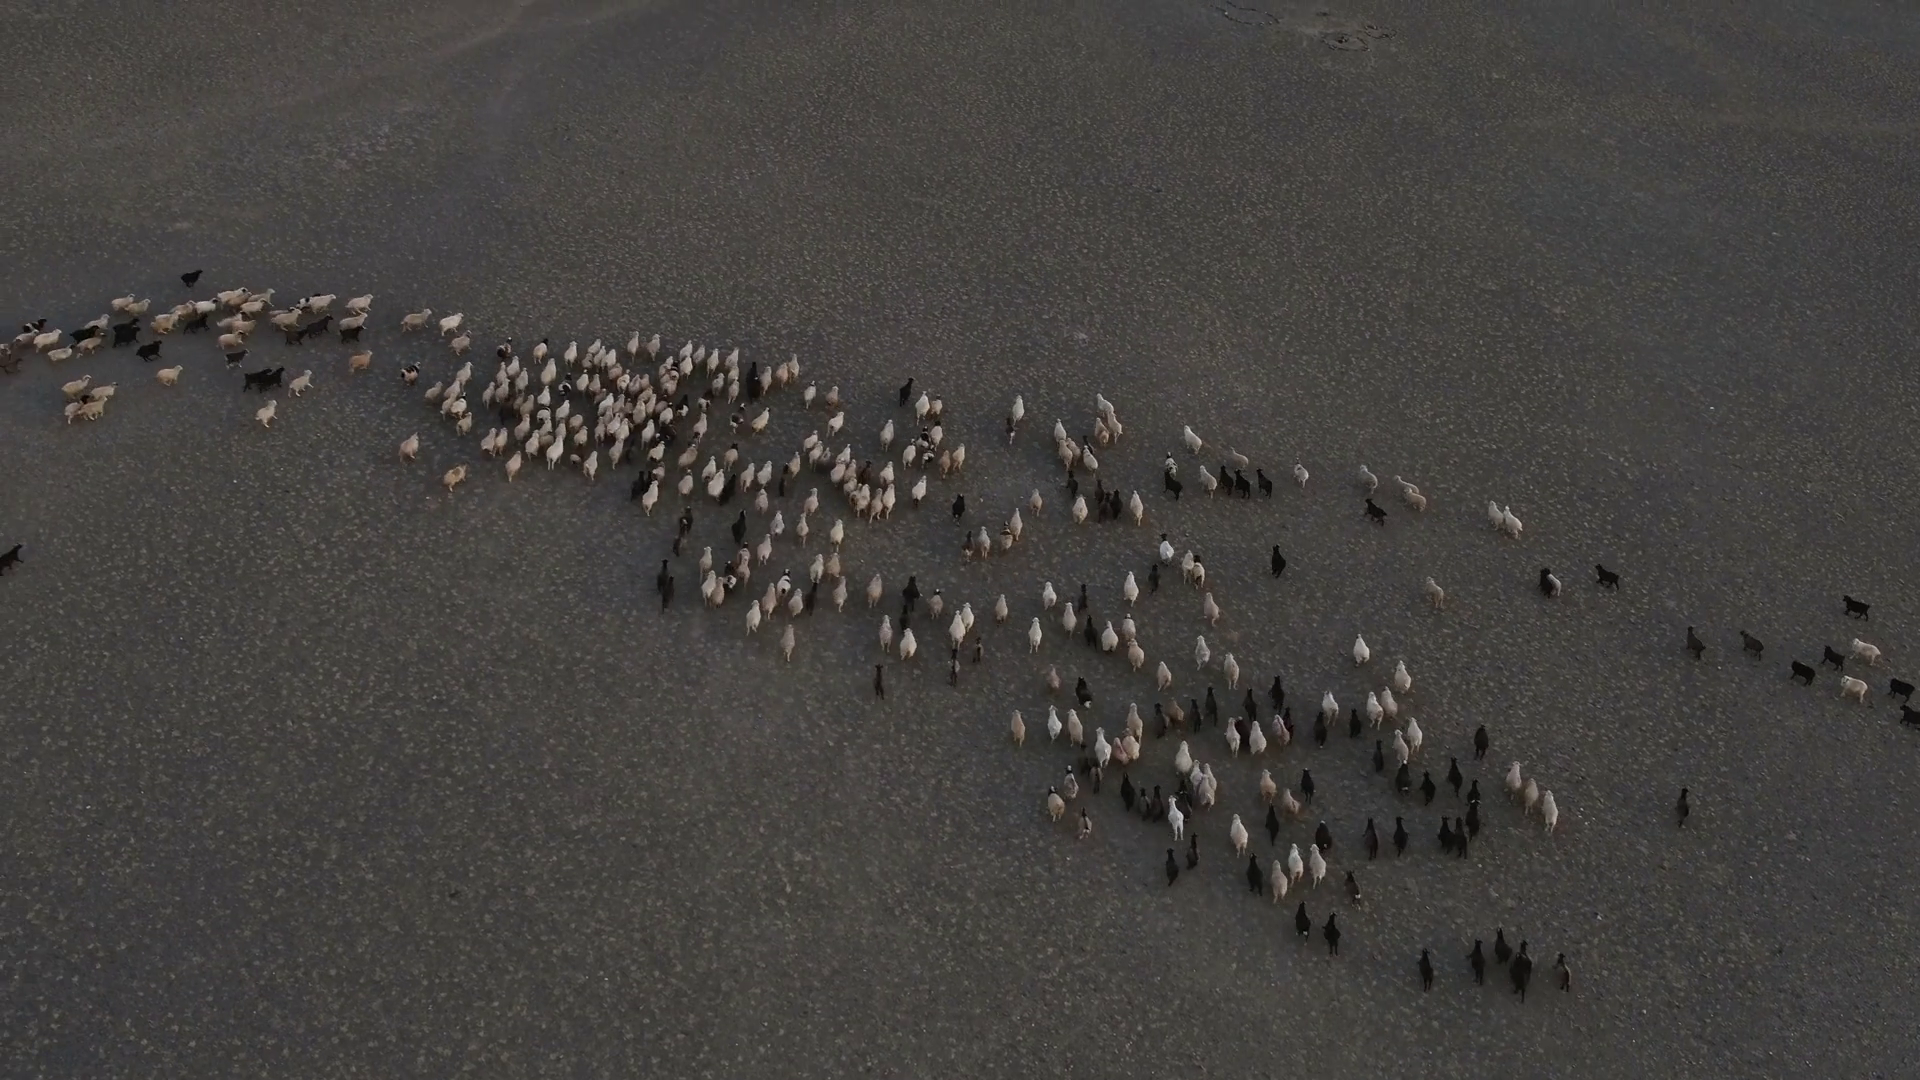sheep: (1267, 858, 1288, 905), (1308, 841, 1329, 887), (1229, 810, 1247, 855), (1393, 658, 1414, 696), (442, 464, 469, 493), (778, 622, 798, 662), (1224, 649, 1244, 688), (290, 368, 314, 400), (268, 310, 305, 330), (1044, 704, 1064, 741), (1174, 738, 1193, 775), (1352, 632, 1371, 669), (1323, 688, 1341, 728), (398, 433, 421, 464), (1192, 632, 1211, 670), (1010, 709, 1029, 748), (1367, 688, 1385, 729), (255, 400, 280, 427), (742, 599, 761, 636), (1249, 717, 1267, 754), (345, 293, 376, 315), (1127, 702, 1145, 741), (401, 309, 433, 330), (136, 339, 164, 363), (1026, 615, 1043, 653), (948, 607, 964, 647), (1106, 407, 1124, 444), (1199, 463, 1217, 497), (349, 351, 376, 375), (504, 451, 524, 483), (83, 396, 109, 419), (1073, 492, 1089, 531), (829, 517, 847, 553), (899, 625, 916, 661), (1069, 708, 1087, 744), (545, 435, 563, 468), (1393, 727, 1408, 765), (1096, 389, 1116, 419), (1183, 423, 1203, 454), (1358, 462, 1378, 492), (1046, 787, 1065, 818), (1403, 485, 1427, 510), (1156, 659, 1174, 694), (90, 382, 117, 404), (1042, 579, 1058, 616), (698, 543, 712, 583), (450, 331, 473, 355), (994, 592, 1010, 628), (866, 572, 882, 608), (1010, 505, 1026, 541), (1129, 489, 1145, 525), (440, 313, 465, 335), (762, 582, 777, 620), (1229, 444, 1249, 472), (539, 357, 556, 389), (911, 472, 927, 506), (1408, 712, 1422, 753), (156, 367, 185, 385), (1395, 473, 1420, 495), (804, 483, 820, 516), (880, 613, 893, 653), (1193, 555, 1209, 588), (562, 340, 579, 371), (646, 331, 663, 361), (914, 389, 928, 425), (1063, 600, 1077, 636), (833, 574, 847, 612), (802, 380, 818, 411), (676, 469, 694, 498), (752, 407, 769, 436), (1292, 460, 1309, 489), (1104, 617, 1118, 651), (825, 411, 845, 436), (582, 450, 597, 480), (757, 460, 773, 491), (740, 462, 754, 495), (216, 332, 248, 347), (342, 313, 371, 328), (1054, 415, 1069, 444), (1029, 488, 1044, 517), (480, 427, 497, 454), (1125, 568, 1138, 603), (127, 298, 157, 313), (480, 381, 495, 411), (829, 458, 843, 491), (655, 555, 669, 588), (953, 440, 967, 473), (1011, 392, 1025, 425), (880, 418, 891, 454), (108, 293, 135, 309), (771, 509, 785, 541), (626, 330, 640, 360), (884, 483, 895, 516), (196, 297, 218, 315), (727, 345, 741, 371), (789, 352, 799, 386), (705, 348, 717, 377), (728, 378, 740, 402)
